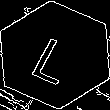L_NE: (27, 25, 83, 85)
